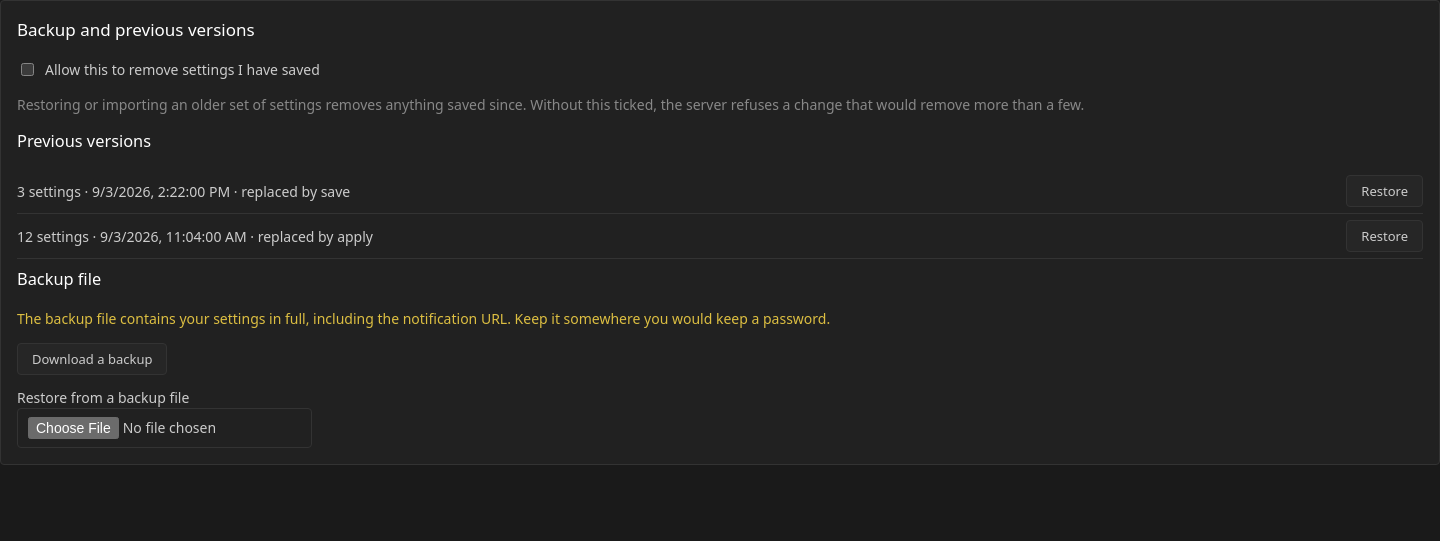
Test case: the previous-versions list › re-submits a refused restore with confirm once the operator ticks the box, carrying the same snapshot
What coordinates should you click on to do the following:
click the 1st button "Restore"
I would click on:
 (1385, 191)
Its box is [1346,175,1423,207].
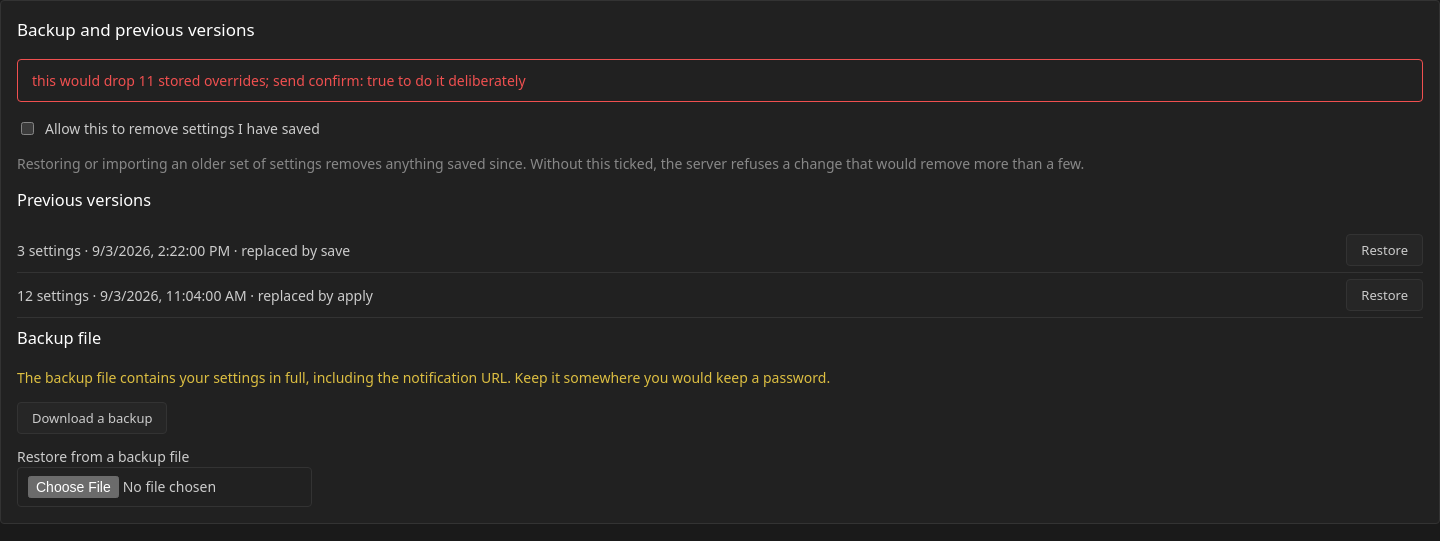
expect the text "would drop 11 stored overrides" is shown: met, box [32,70,526,90]
What coordinates should you click on to do the following:
click the checkbox labelled "Allow this to remove settings I have saved"
I would click on:
 (28, 128)
Its box is [21,122,34,134].
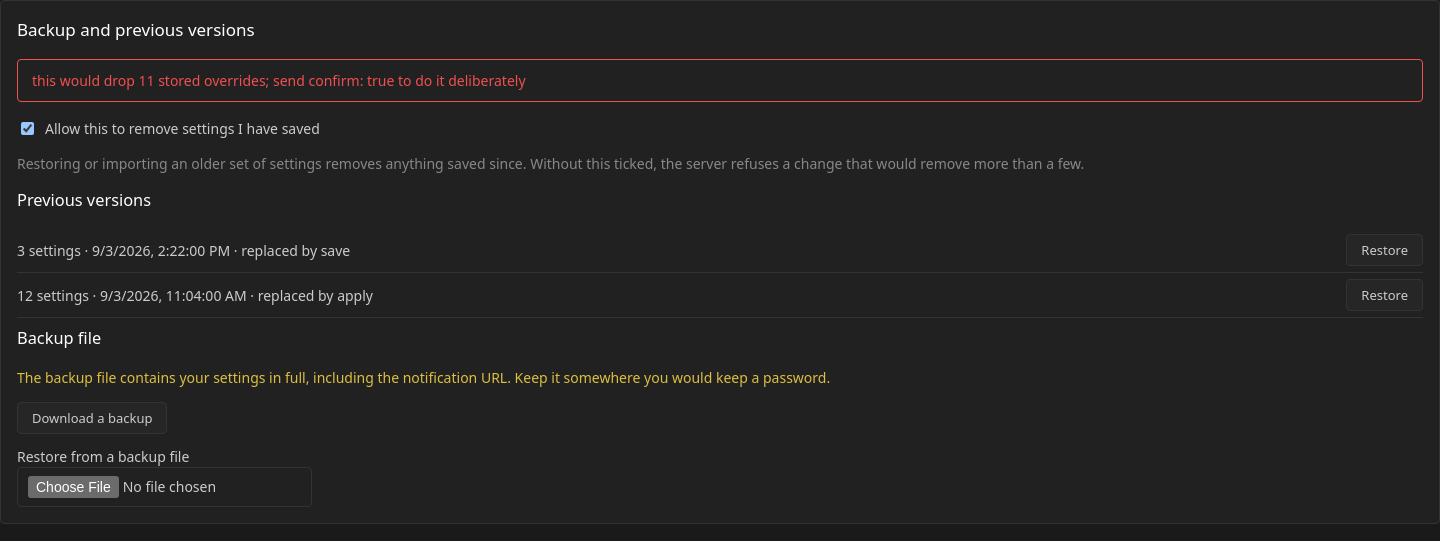
What coordinates should you click on to do the following:
click the 1st button "Restore"
I would click on:
 (1385, 250)
Its box is [1346,234,1423,266].
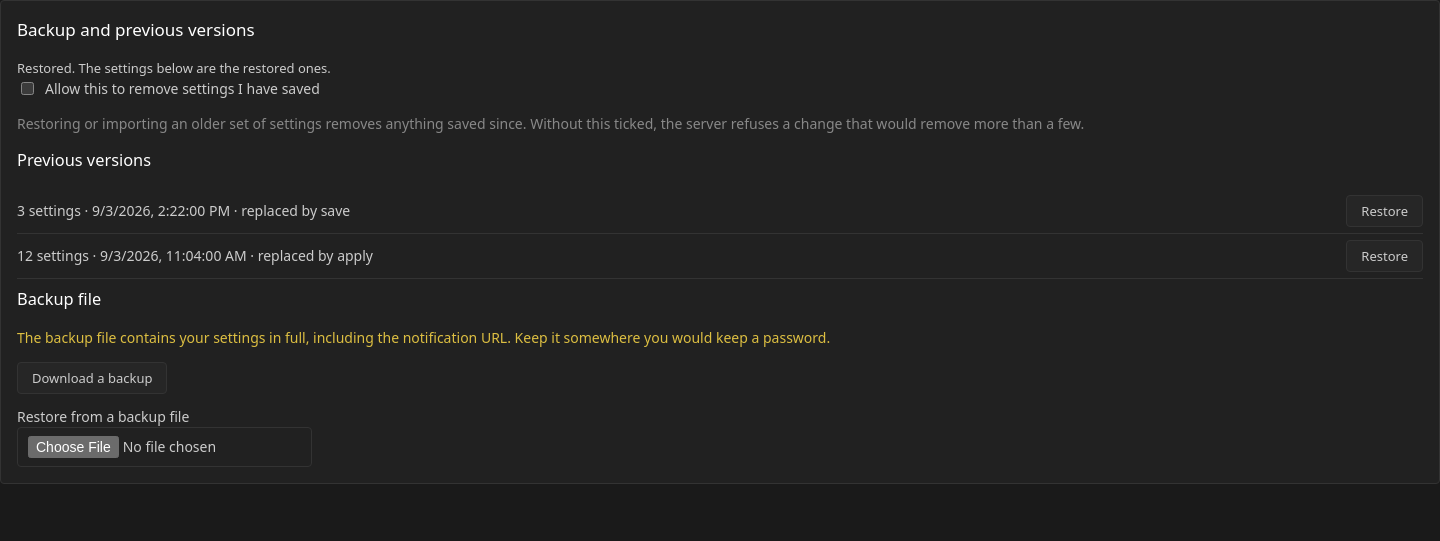
expect the text "would drop 11 stored overrides" is gone: met
